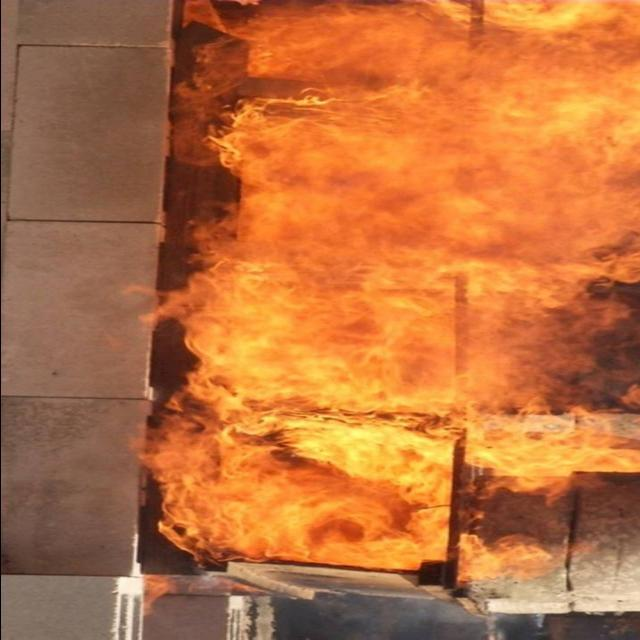Fire: (128, 3, 639, 589)
